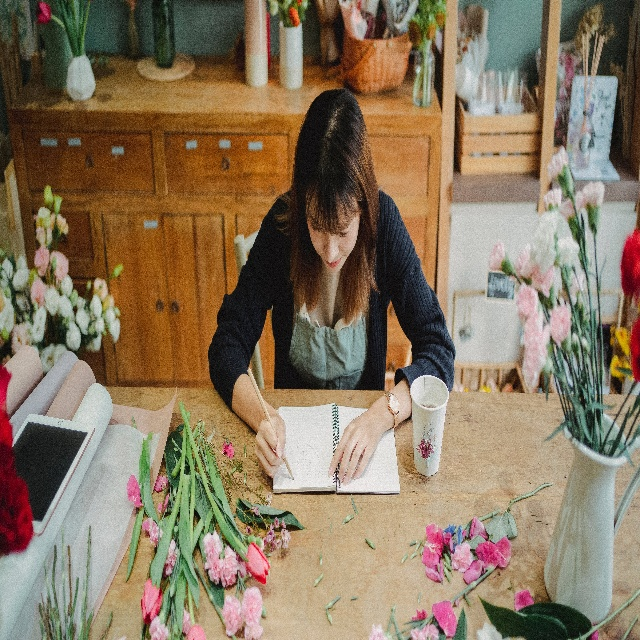Sin_guantes: (328, 412, 385, 487), (256, 406, 288, 474)
